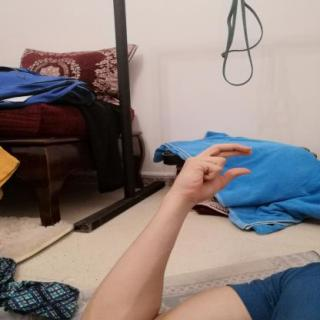DHELL: (167, 137, 260, 210)
